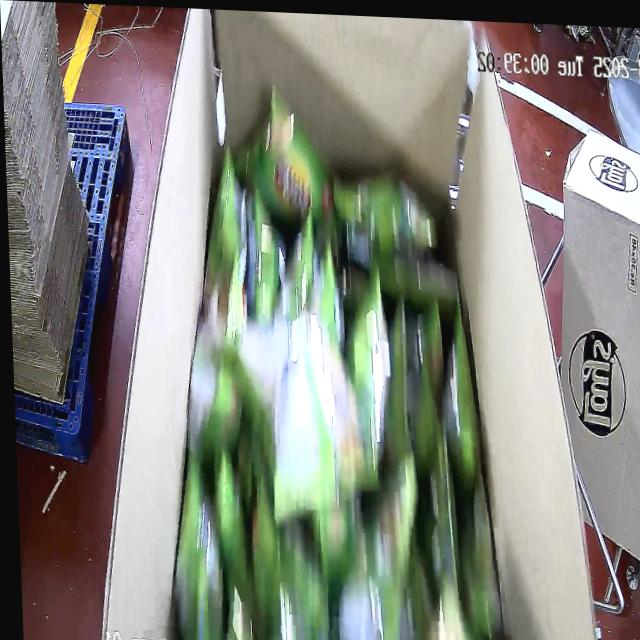YOGURT_HERB: (154, 77, 506, 640)
